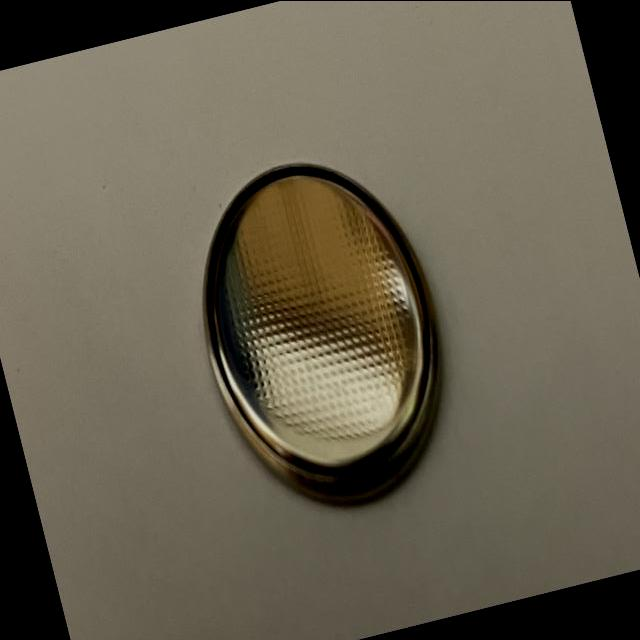COIN: (164, 134, 479, 536)
